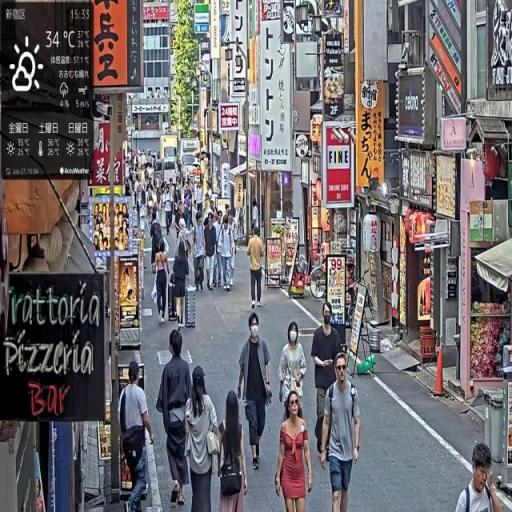person: (320, 352, 363, 512), (157, 329, 194, 512), (237, 312, 274, 476), (184, 367, 224, 512), (120, 360, 156, 511), (312, 303, 342, 468), (276, 387, 315, 512), (218, 389, 251, 512), (457, 441, 507, 512), (279, 321, 308, 423), (152, 238, 172, 324), (172, 239, 191, 329), (248, 227, 267, 312), (219, 213, 236, 293), (204, 214, 219, 293), (193, 212, 207, 296), (164, 182, 175, 235)
